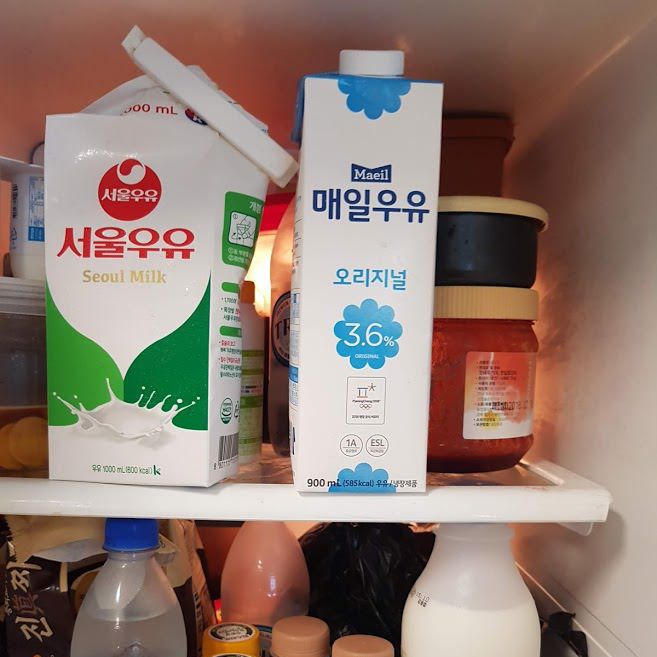milk: (44, 65, 274, 488), (291, 50, 430, 497), (400, 522, 542, 657)
